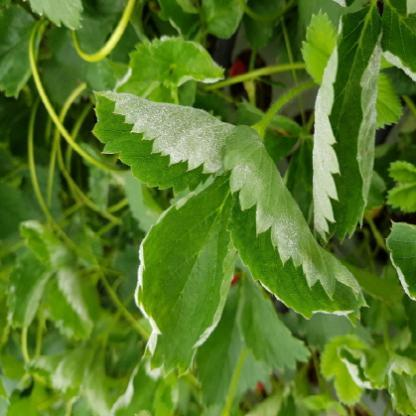Strawberry_Powdery_Mildew_Leaf: (220, 127, 368, 330), (134, 169, 237, 380), (312, 4, 384, 248), (90, 90, 236, 195), (120, 35, 228, 88)
